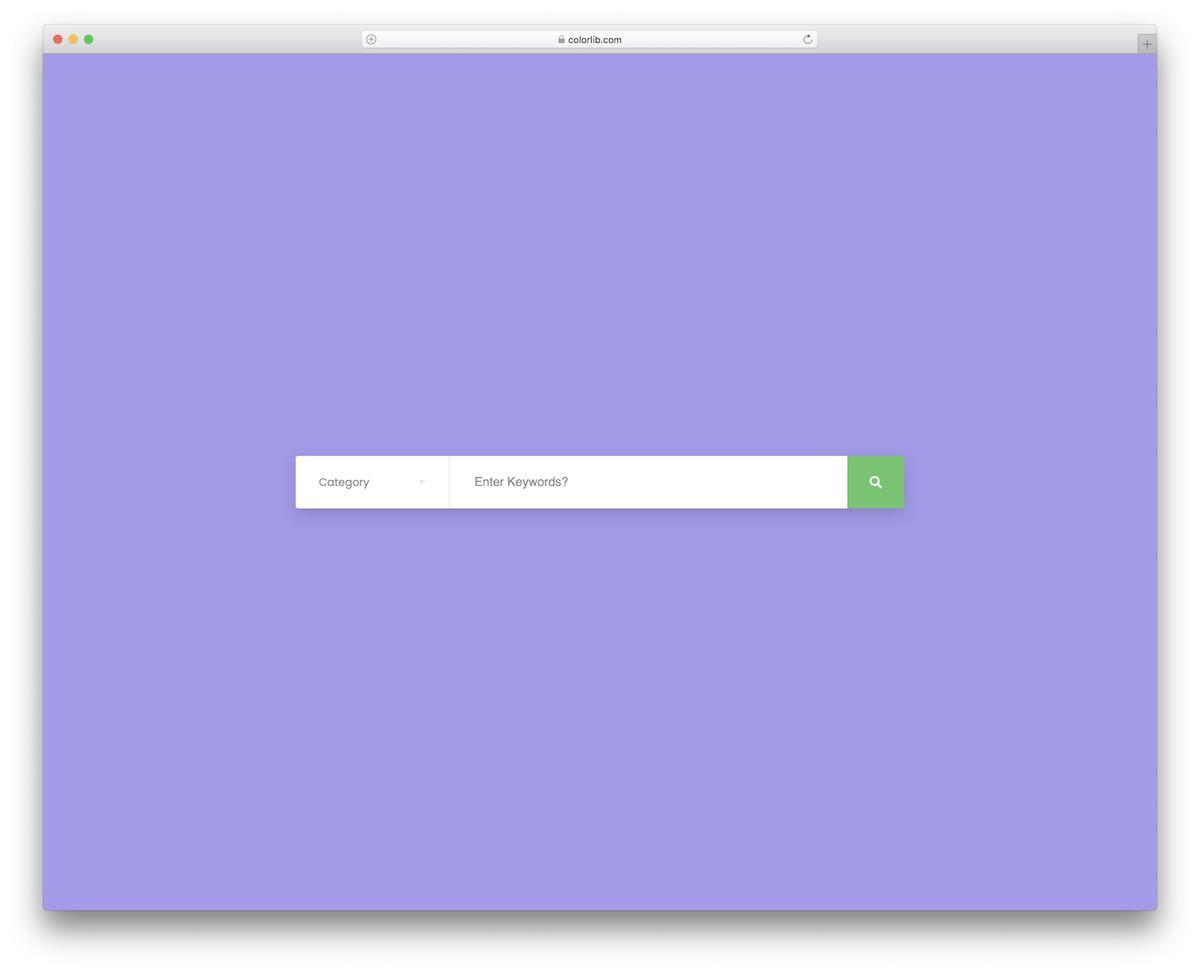dropdown: (295, 454, 449, 509)
icon: (848, 455, 907, 510)
input: (449, 454, 850, 511)
